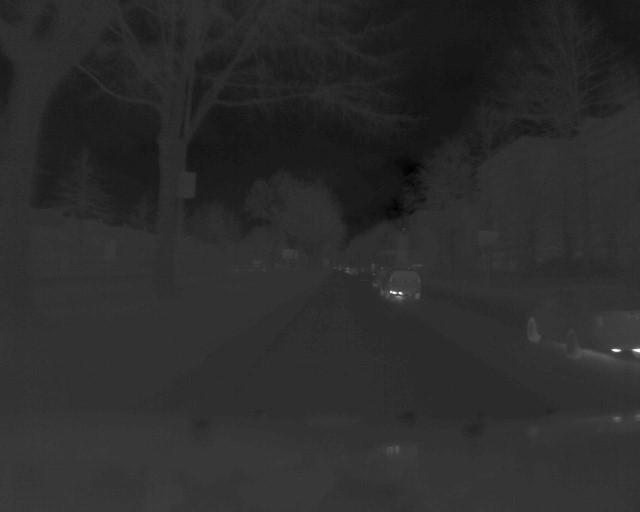car: (526, 284, 640, 361), (379, 268, 427, 308)
